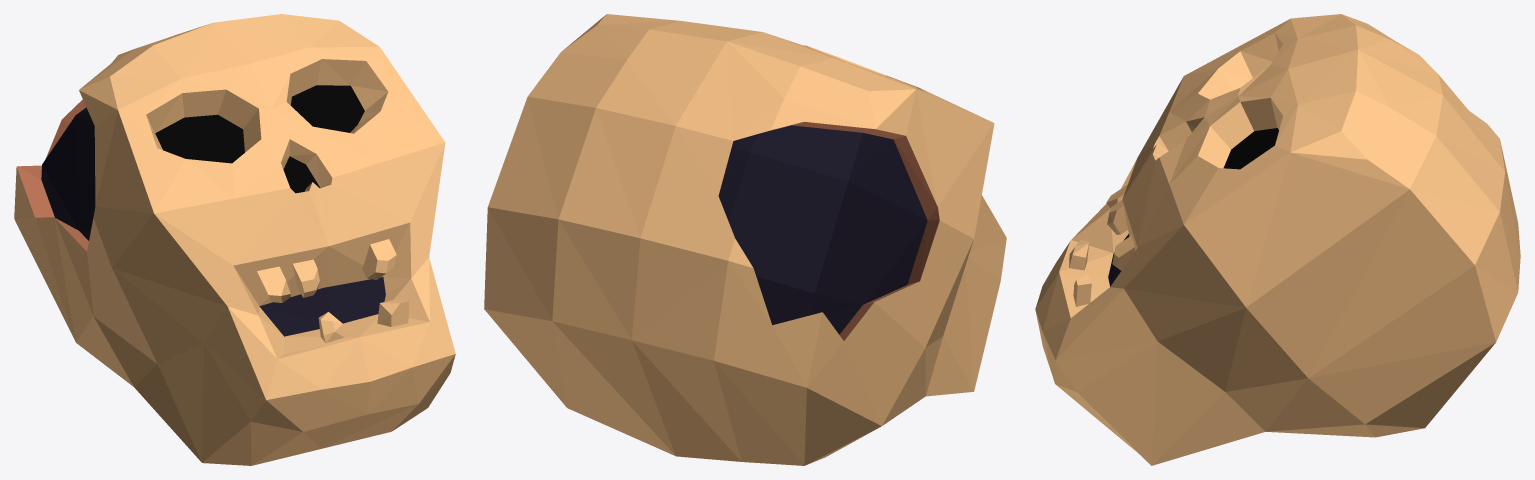
The model's file is Skull 02.fbx.
3 renders of one model, left to right at view 1: azimuth 30°, elevation 25°; view 2: azimuth 150°, elevation 25°; view 3: azimuth 270°, elevation 25°, orthographic. The views are drawn at different scales.
Visible parts, largest first — view 1: Skull 02; view 2: Skull 02; view 3: Skull 02.
Boxes of the visible parts, x1,y1,x2,y2 form: Skull 02: [14, 14, 455, 465]; Skull 02: [484, 14, 1006, 465]; Skull 02: [1035, 14, 1520, 465].
Bounding box in the file's own units: 21.54 × 22.78 × 27.35.
